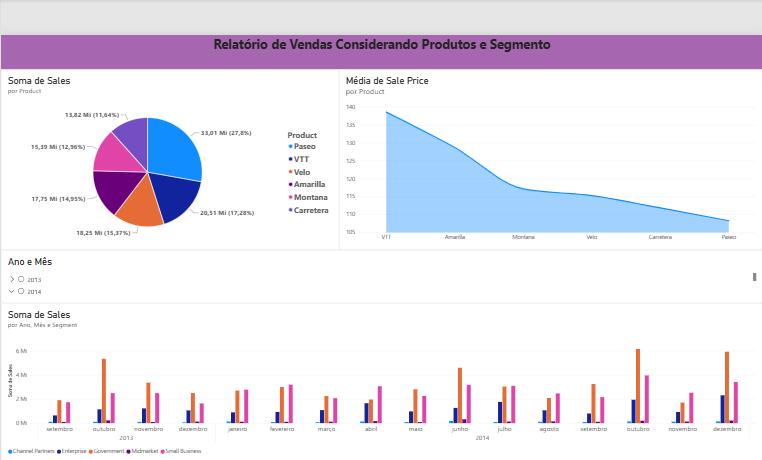

The dashboard page shown, as its layout file describes it:
{"tool":"powerbi","page":{"name":"Página 1","canvas":[1920,1080],"ordinal":0},"visuals":[{"type":"pieChart","fields":{"Category":["financials.Product"],"Y":["Sum(financials. Sales)"]},"box":[0,85.7,851.7,456.1],"z":0},{"type":"areaChart","fields":{"Category":["financials.Product"],"Y":["Avg(financials.Sale Price)"]},"box":[851.7,85.7,1068.3,456.1],"z":1},{"type":"clusteredColumnChart","fields":{"Category":["financials.Date.Variation.Hierarquia de datas.Ano","financials.Date.Variation.Hierarquia de datas.Mês"],"Series":["financials.Segment"],"Y":["Sum(financials. Sales)"]},"box":[0,675.3,1920,405.7],"z":2},{"type":"textbox","box":[0,0,1920,85.7],"z":3},{"type":"listSlicer","fields":{"Values":["financials.Date.Variation.Hierarquia de datas.Ano","financials.Date.Variation.Hierarquia de datas.Mês"]},"box":[0,541.7,1920,133.5],"z":4}]}

Visuals, with their boxes on the page's 1920x1080 design canvas (x1, y1, x2, y2). These are canvas units, not pixel positions in the 762x460 screenshot, which may show the page scaled, cropped or inside an application window:
pieChart - financials.Product x Sum(financials. Sales): <region>0, 86, 852, 542</region>
areaChart - financials.Product x Avg(financials.Sale Price): <region>852, 86, 1920, 542</region>
clusteredColumnChart - financials.Date.Variation.Hierarquia de datas.Ano x financials.Date.Variation.Hierarquia de datas.Mês: <region>0, 675, 1920, 1081</region>
textbox: <region>0, 0, 1920, 86</region>
listSlicer - financials.Date.Variation.Hierarquia de datas.Ano x financials.Date.Variation.Hierarquia de datas.Mês: <region>0, 542, 1920, 675</region>
